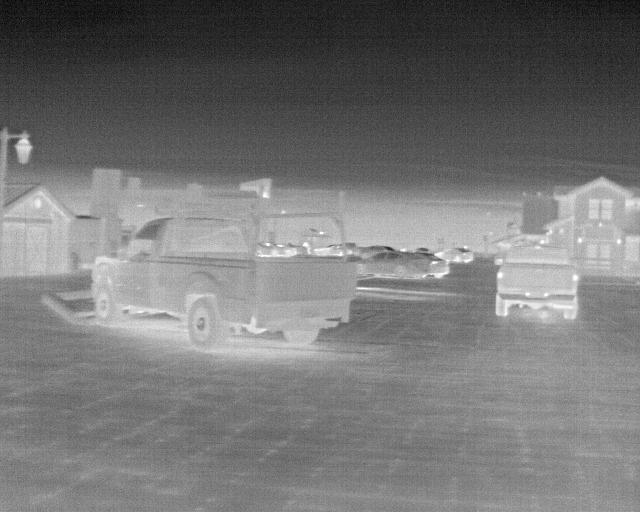car: (90, 209, 358, 350), (492, 242, 579, 323), (363, 250, 430, 285), (415, 253, 444, 275), (446, 245, 476, 265), (256, 240, 282, 257), (276, 243, 297, 258)
